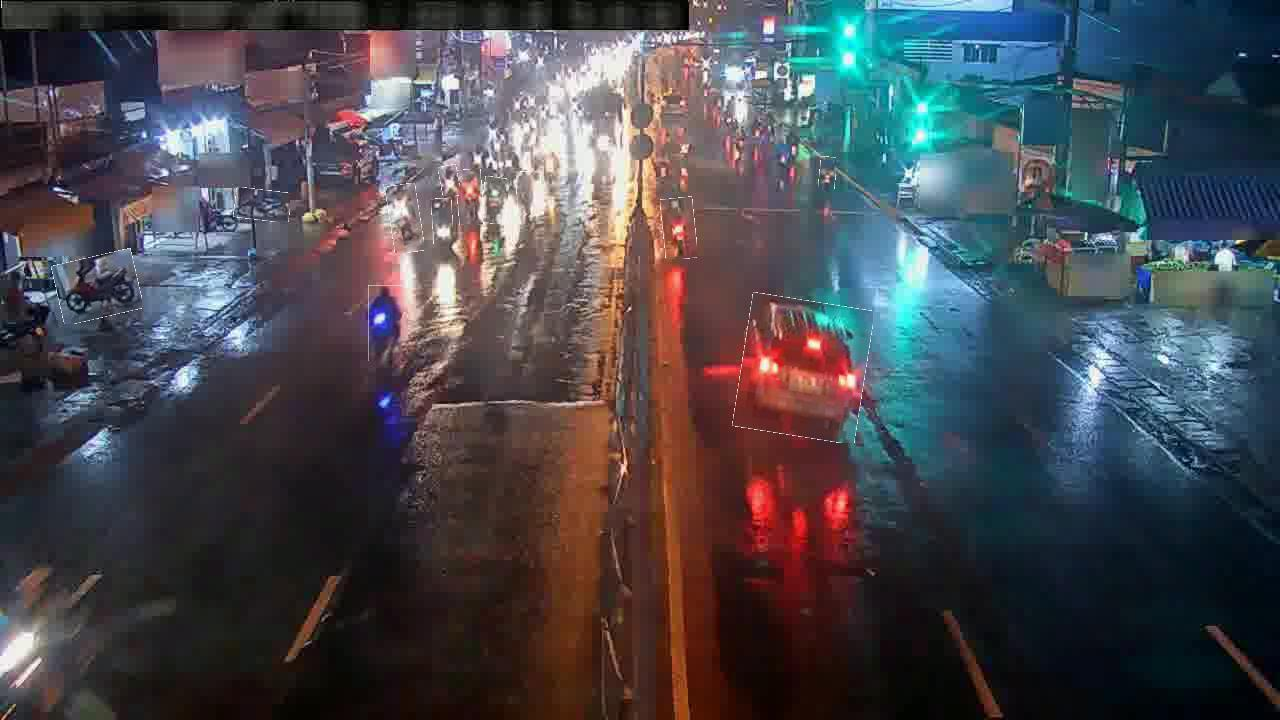container: (737, 297, 870, 440)
motorbike: (54, 252, 141, 321), (368, 285, 403, 362), (388, 184, 423, 254), (662, 197, 696, 260), (234, 189, 291, 222), (456, 170, 483, 226), (481, 177, 509, 225), (516, 172, 542, 216), (432, 199, 454, 245), (440, 165, 460, 197), (819, 157, 837, 192)
